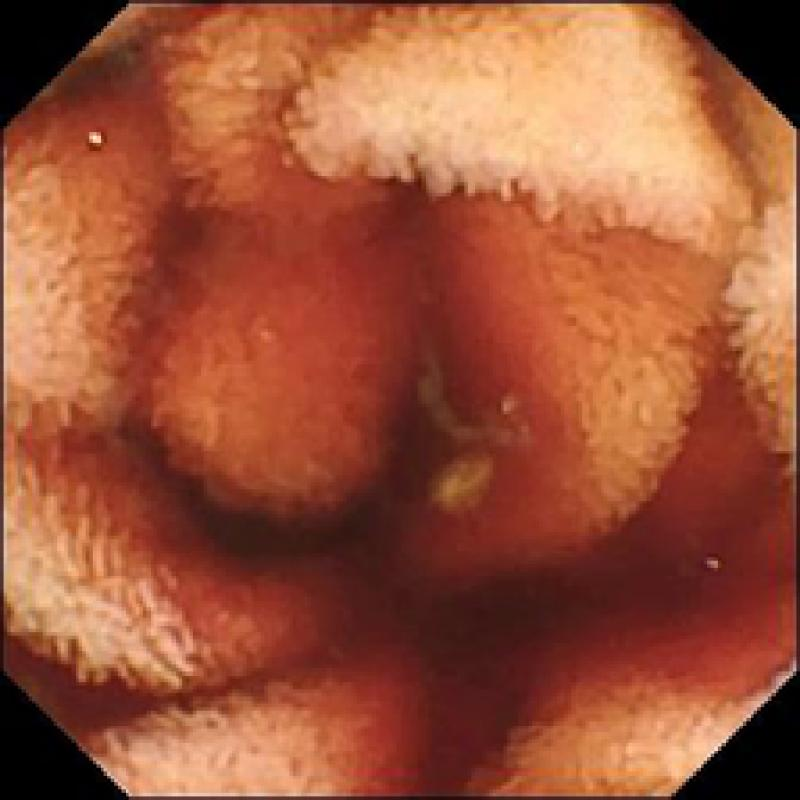bleeding: (39, 232, 790, 775)
